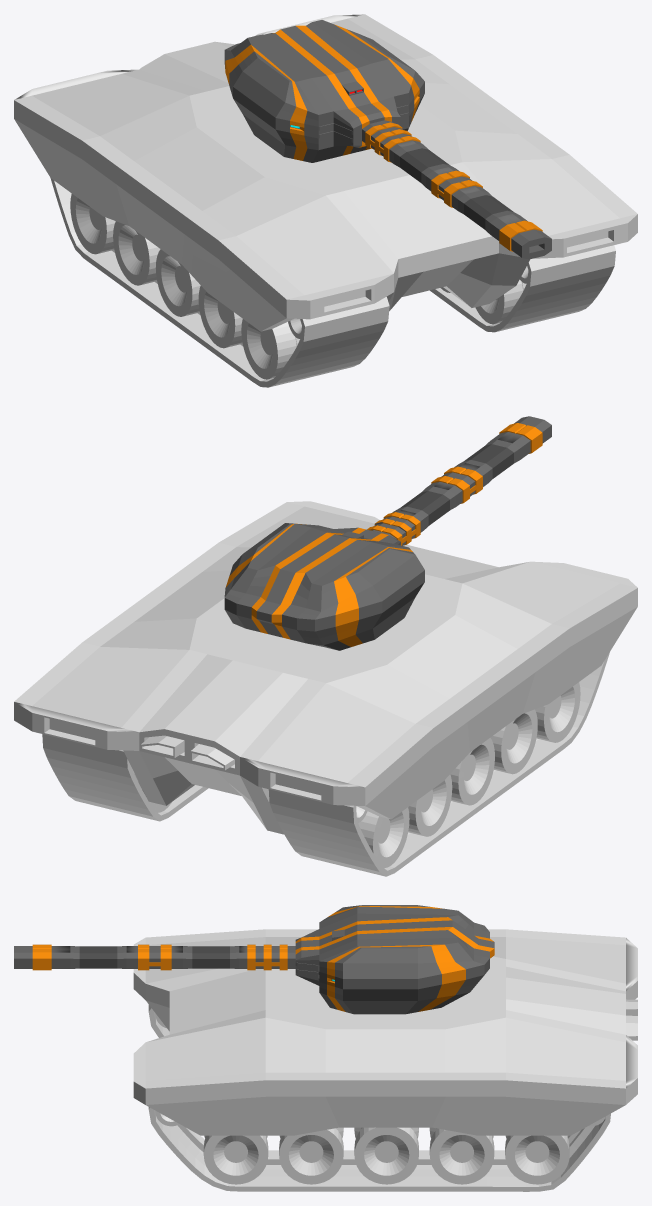
Rendered from TankV2Convex.fbx.
3 renders of one model, top to bottom at view 1: azimuth 30°, elevation 25°; view 2: azimuth 150°, elevation 25°; view 3: azimuth 270°, elevation 25°, orthographic. The views are drawn at different scales.
Visible parts, largest first — view 1: HullV2, Turret, TrackRight, TrackLeft, Wheel1R, Wheel4R, Wheel3R, Wheel5R, Wheel2R, Wheel1L; view 2: HullV2, Turret, TrackRight, TrackLeft, Wheel2R, Wheel3R, Wheel5R, Wheel1R, Wheel4R; view 3: HullV2, Turret, TrackLeft, Wheel3L, Wheel2L, Wheel4L, Wheel1L, Wheel5L.
Boxes of the visible parts, bbox=[...] form: HullV2: bbox=[14, 14, 637, 331]; Turret: bbox=[224, 20, 551, 259]; TrackRight: bbox=[50, 178, 389, 387]; TrackLeft: bbox=[430, 245, 615, 332]; Wheel1R: bbox=[241, 319, 299, 379]; Wheel4R: bbox=[113, 221, 160, 285]; Wheel3R: bbox=[155, 249, 200, 316]; Wheel5R: bbox=[70, 193, 115, 254]; Wheel2R: bbox=[198, 285, 242, 348]; Wheel1L: bbox=[475, 279, 526, 324]; HullV2: bbox=[14, 501, 637, 834]; Turret: bbox=[224, 416, 551, 650]; TrackRight: bbox=[268, 652, 609, 876]; TrackLeft: bbox=[42, 734, 208, 821]; Wheel2R: bbox=[490, 709, 537, 774]; Wheel3R: bbox=[450, 738, 494, 805]; Wheel5R: bbox=[358, 807, 409, 867]; Wheel1R: bbox=[535, 682, 580, 742]; Wheel4R: bbox=[408, 774, 452, 836]; HullV2: bbox=[133, 929, 637, 1135]; Turret: bbox=[14, 905, 494, 1014]; TrackLeft: bbox=[148, 1107, 610, 1191]; Wheel3L: bbox=[354, 1127, 418, 1184]; Wheel2L: bbox=[279, 1127, 343, 1184]; Wheel4L: bbox=[429, 1127, 494, 1184]; Wheel1L: bbox=[203, 1135, 268, 1184]; Wheel5L: bbox=[505, 1135, 569, 1184].
Bounding box in the file's own units: 3320 × 2065 × 5798.
